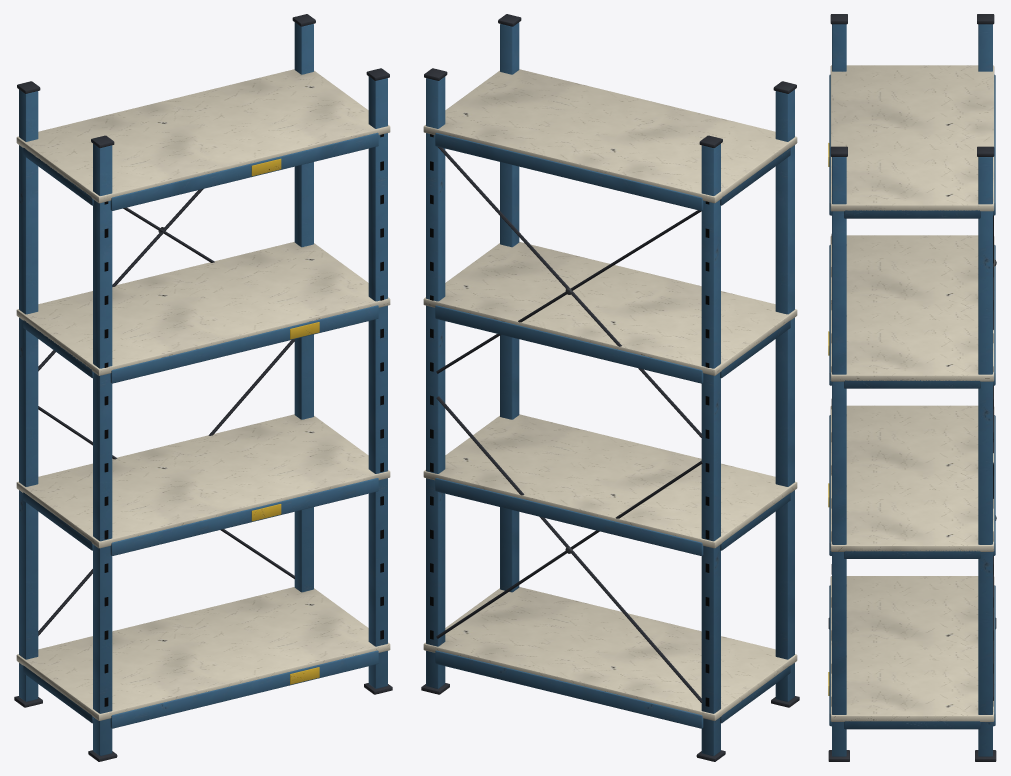
File: shelf_unit.glb
3 views of the same model, side by side, from view 1: azimuth 30°, elevation 25°; view 2: azimuth 150°, elevation 25°; view 3: azimuth 270°, elevation 25° (orthographic).
Visible parts, largest first — view 1: ShelfUnitBody; view 2: ShelfUnitBody; view 3: ShelfUnitBody.
Part boxes in pixels (bbox=[...]): ShelfUnitBody: bbox=[14, 14, 392, 761]; ShelfUnitBody: bbox=[421, 14, 799, 761]; ShelfUnitBody: bbox=[828, 14, 996, 761].
Size of the model in its own units: 1 by 2 by 0.5022.
Materials: 8 (7 with a texture image).
